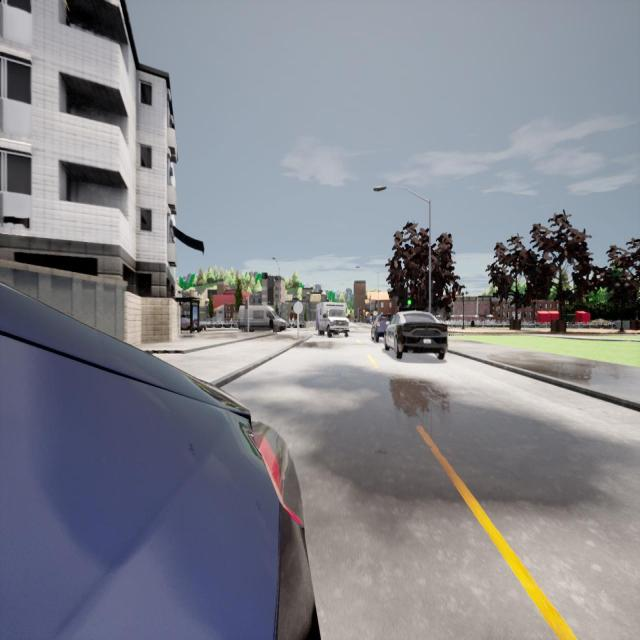Traffic_Signs: (293, 301, 304, 315)
Vehicle: (2, 282, 317, 640), (386, 309, 448, 362), (238, 304, 288, 332), (316, 302, 350, 337), (371, 314, 386, 343)
traffic_light: (407, 291, 412, 307), (245, 299, 248, 309), (360, 312, 361, 318)
